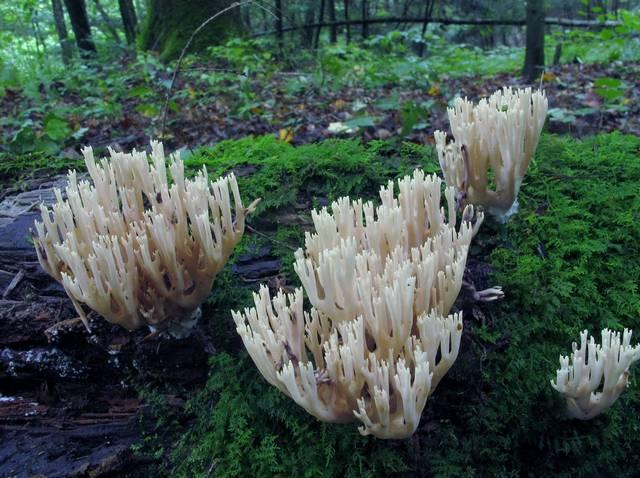Edible Mushroom: (229, 167, 486, 439), (28, 137, 261, 340), (432, 84, 548, 226), (549, 325, 639, 421)
